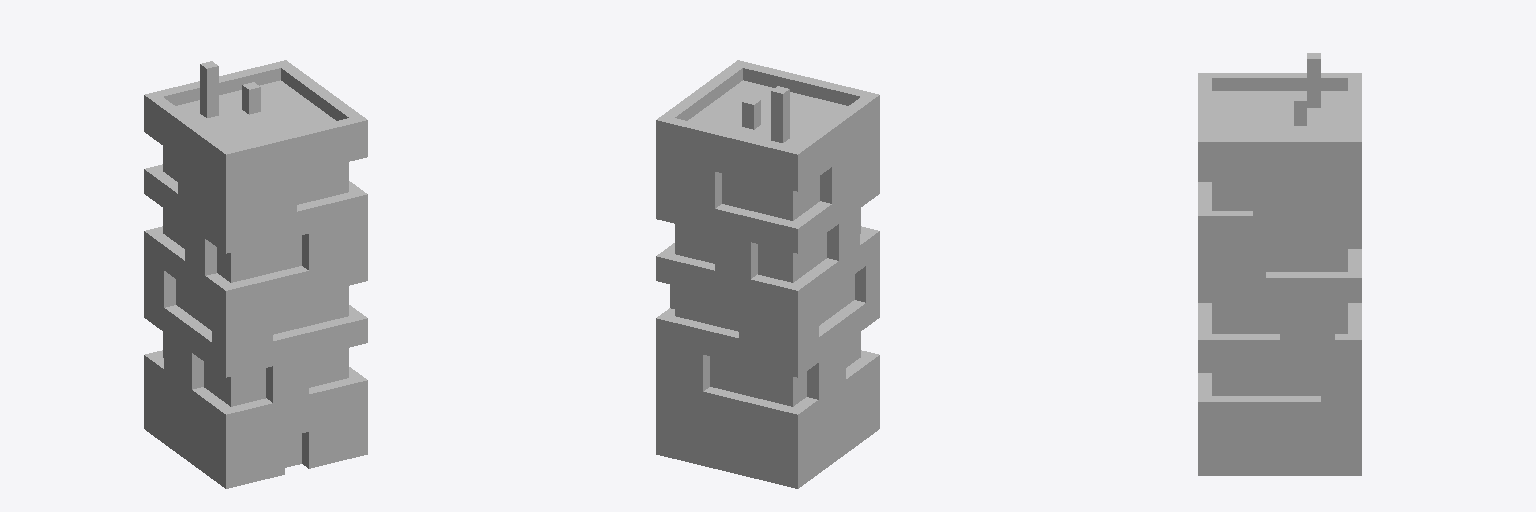
The model's file is Predio 3.obj.
3 views of the same model, side by side, from view 1: azimuth 30°, elevation 25°; view 2: azimuth 150°, elevation 25°; view 3: azimuth 270°, elevation 25° (orthographic).
Parts seen in each view (by area): view 1: object 1; view 2: object 1; view 3: object 1.
Part boxes in pixels (left/top/right/bottom): object 1: left=144, top=60, right=367, bottom=488; object 1: left=656, top=60, right=879, bottom=488; object 1: left=1198, top=53, right=1361, bottom=475.
Size of the model in its own units: 1.2 by 3 by 1.2.